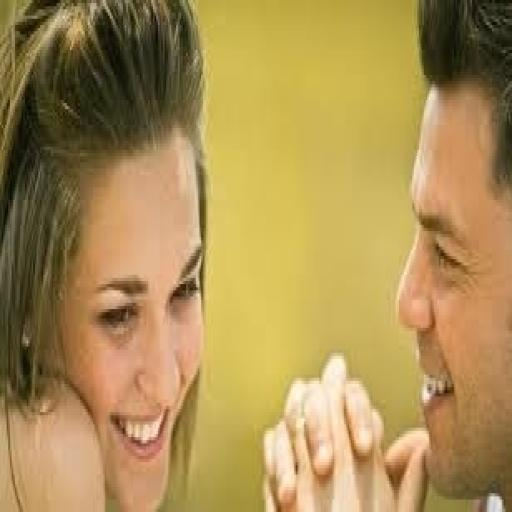laughing: (2, 3, 221, 506)
